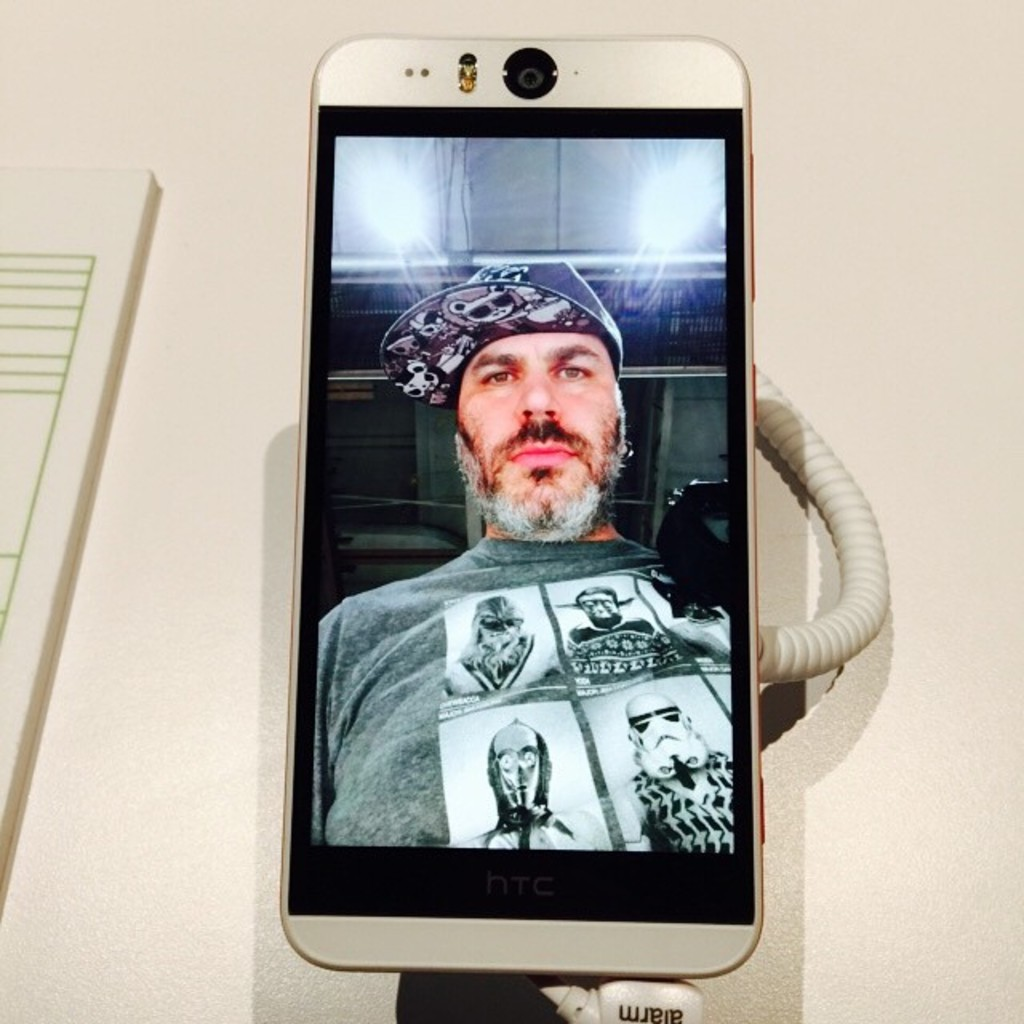Mobile-phone: (274, 18, 770, 987)
